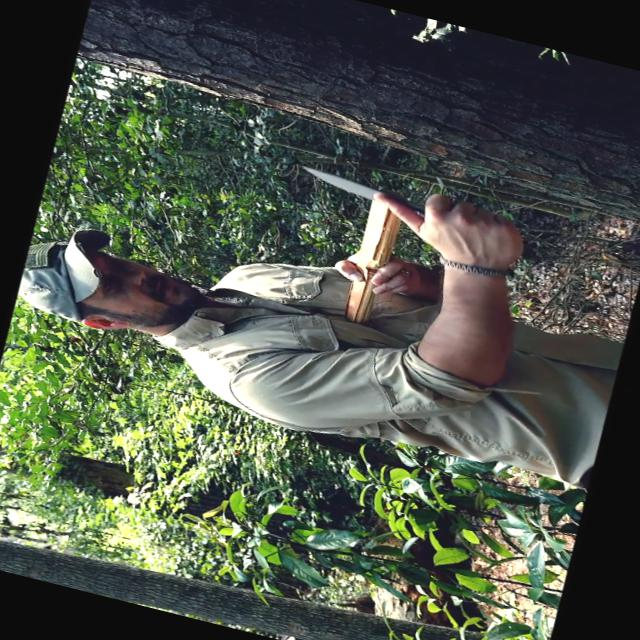knife: (280, 151, 492, 262)
